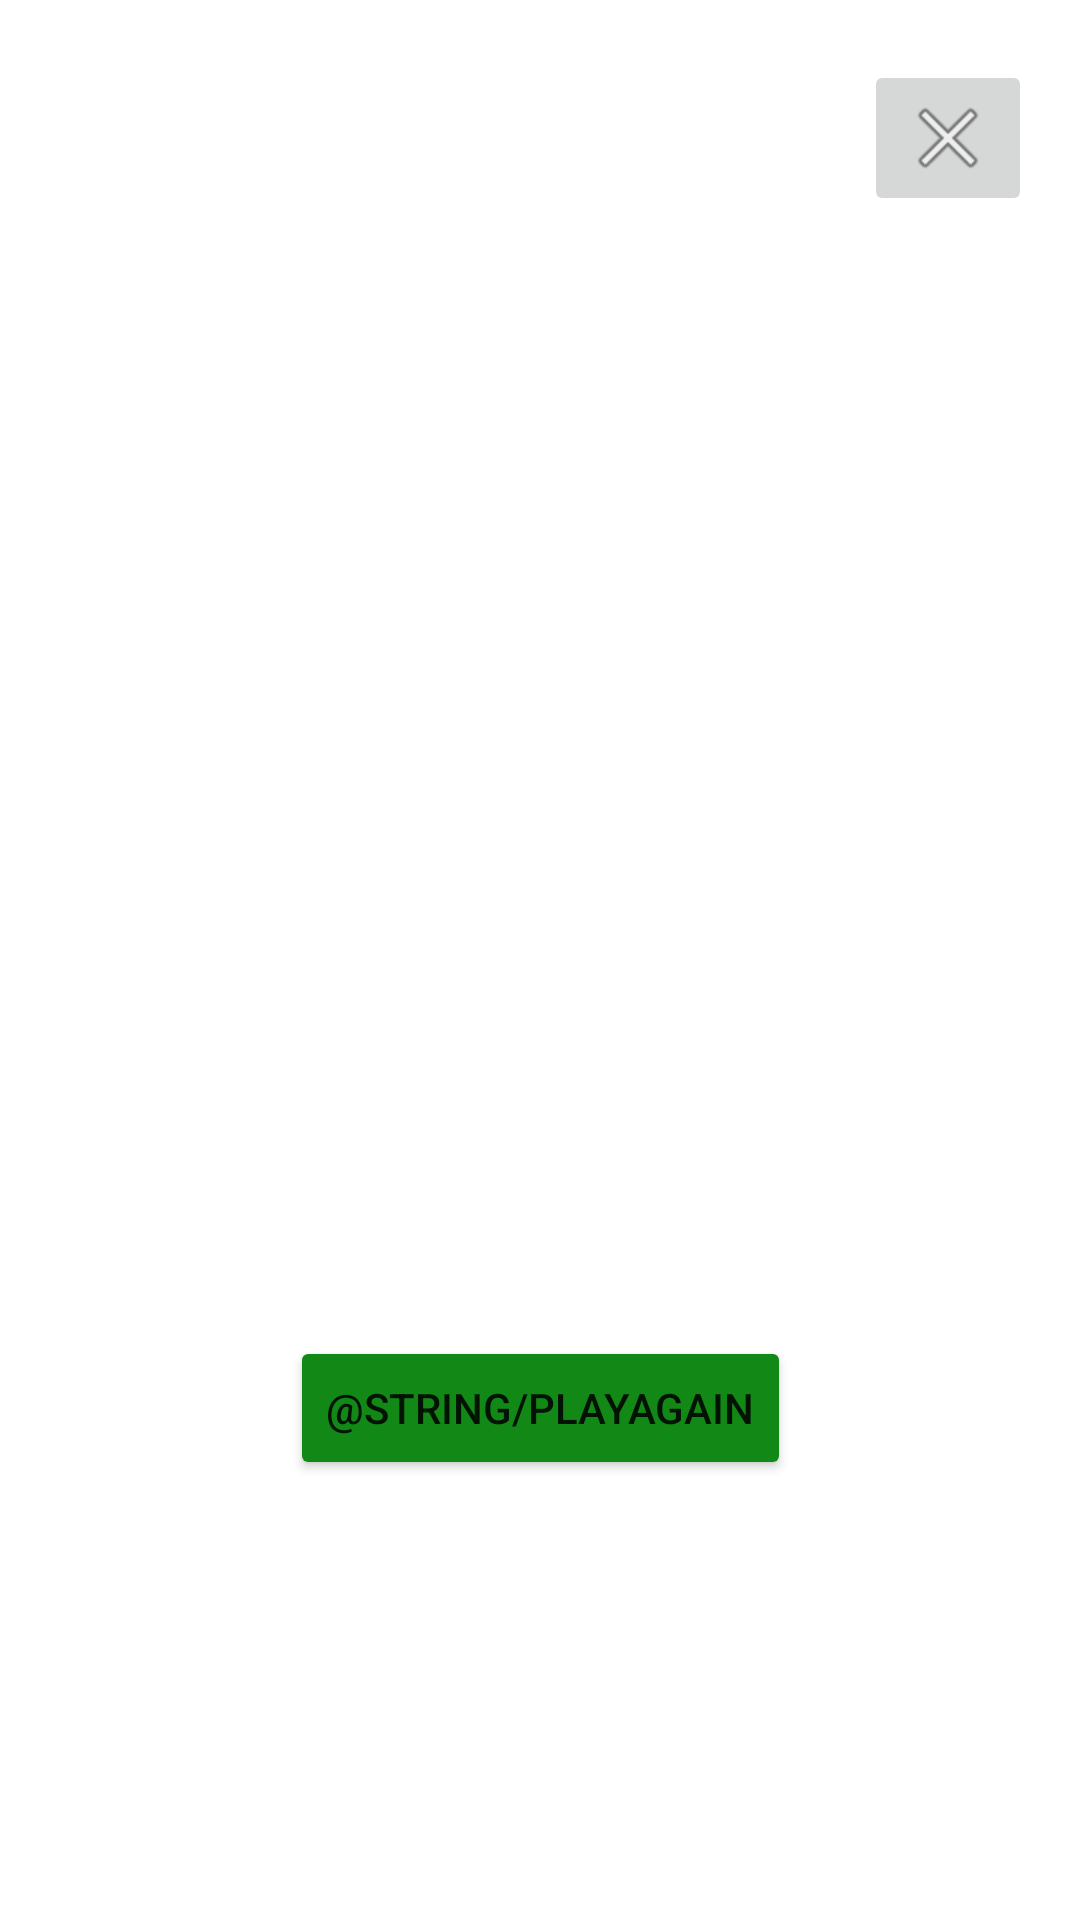

Icon click points for this 1080*1920 phone screenshot, format (x=x, y=y):
close clear cancel: (x=948, y=138)
